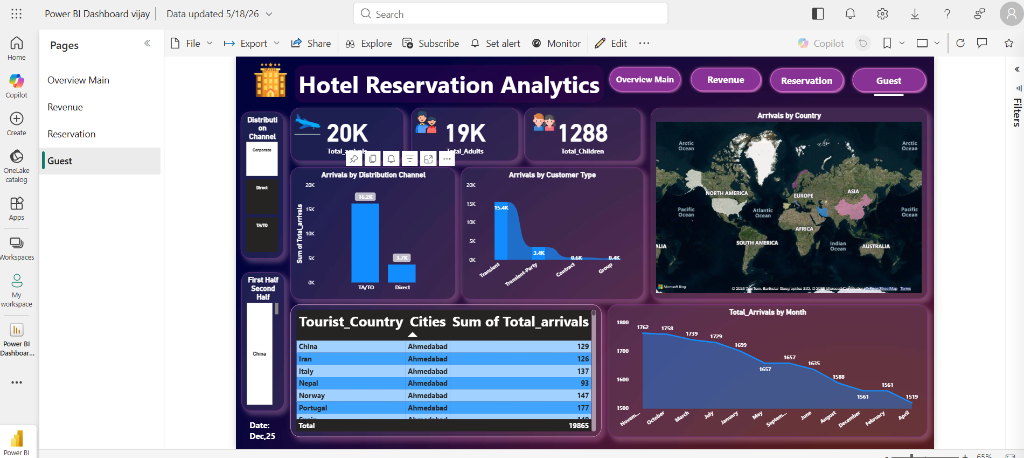

The dashboard page shown, as its layout file describes it:
{"tool":"powerbi","page":{"name":"Guest","canvas":[1600,900],"ordinal":3},"visuals":[{"type":"card","fields":{"Values":["Sum(Power BI project.Children)"]},"box":[660.1,117.2,268,122.6],"z":0},{"type":"card","fields":{"Values":["Sum(Power BI project.Adults)"]},"box":[401,117.2,247.1,122.6],"z":1000},{"type":"card","fields":{"Values":["Sum(Power BI project.Total_arrivals)"]},"box":[124.4,117.2,259.7,122.6],"z":2000},{"type":"lineClusteredColumnComboChart","title":"Arrivals by Distribution Channel","fields":{"Category":["Power BI project.Distribution_channel"],"Y":["Sum(Power BI project.Total_arrivals)"]},"box":[124.4,252.5,378.7,303],"z":3000},{"type":"ribbonChart","title":"Arrivals by Customer Type","fields":{"Category":["Power BI project.customer_type"],"Y":["Sum(Power BI project.Total_arrivals)"]},"box":[515.8,252.5,418.4,303],"z":4000},{"type":"tableEx","title":"Overall Revenue Trend By Market Segment","fields":{"Values":["Power BI project.Tourist_Country","Power BI project.Cities","Sum(Power BI project.Total_arrivals)"]},"box":[125.7,568.6,712.9,304.3],"z":5000},{"type":"textbox","box":[25.7,827.1,98.6,72.9],"z":6000},{"type":"filledMap","title":"Arrivals by Country","fields":{"Category":["Power BI project.Tourist_Country"]},"box":[950,118,634,438],"z":7000},{"type":"areaChart","title":"Total_Arrivals by Month","fields":{"Category":["Power BI project.arrival_date_month"],"Y":["Sum(Power BI project.Total_arrivals)"]},"box":[851.4,568.6,732.9,304.3],"z":8000},{"type":"shape","box":[1037.1,20,171.4,64.3],"z":9000},{"type":"shape","box":[851,19,174.3,67.1],"z":10000},{"type":"shape","box":[1218.6,21.4,178.6,64.3],"z":11000},{"type":"shape","box":[1407.1,21.4,178.6,64.3],"z":12000},{"type":"shape","box":[1462.9,71,67.1,34.3],"z":13000},{"type":"shape","box":[125.7,8.6,727.1,105.7],"z":14000},{"type":"image","box":[35.7,8.6,88.6,88.6],"z":15000},{"type":"advancedSlicerVisual","title":"Distribution Channel","fields":{"Values":["Power BI project.Distribution_channel"]},"box":[11.4,127.1,98.6,335.7],"z":16000},{"type":"advancedSlicerVisual","title":"First Half Second Half","fields":{"Values":["Power BI project.Tourist_Country"]},"box":[12.9,494.3,98.6,318.6],"z":17000},{"type":"image","box":[125.8,118.4,74.9,74.9],"z":18000},{"type":"image","box":[401.5,118.4,68.9,62.9],"z":19000},{"type":"image","box":[672.7,118.4,68.9,62.9],"z":20000}]}

Visuals, with their boxes on the page's 1600x900 design canvas (x1, y1, x2, y2). These are canvas units, not pixel positions in the 1024x458 screenshot, which may show the page scaled, cropped or inside an application window:
card - Sum(Power BI project.Children): <bbox>660, 117, 928, 240</bbox>
card - Sum(Power BI project.Adults): <bbox>401, 117, 648, 240</bbox>
card - Sum(Power BI project.Total_arrivals): <bbox>124, 117, 384, 240</bbox>
"Arrivals by Distribution Channel" lineClusteredColumnComboChart: <bbox>124, 252, 503, 556</bbox>
"Arrivals by Customer Type" ribbonChart: <bbox>516, 252, 934, 556</bbox>
"Overall Revenue Trend By Market Segment" tableEx: <bbox>126, 569, 839, 873</bbox>
textbox: <bbox>26, 827, 124, 900</bbox>
"Arrivals by Country" filledMap: <bbox>950, 118, 1584, 556</bbox>
"Total_Arrivals by Month" areaChart: <bbox>851, 569, 1584, 873</bbox>
shape: <bbox>1037, 20, 1208, 84</bbox>
shape: <bbox>851, 19, 1025, 86</bbox>
shape: <bbox>1219, 21, 1397, 86</bbox>
shape: <bbox>1407, 21, 1586, 86</bbox>
shape: <bbox>1463, 71, 1530, 105</bbox>
shape: <bbox>126, 9, 853, 114</bbox>
image: <bbox>36, 9, 124, 97</bbox>
"Distribution Channel" advancedSlicerVisual: <bbox>11, 127, 110, 463</bbox>
"First Half Second Half" advancedSlicerVisual: <bbox>13, 494, 112, 813</bbox>
image: <bbox>126, 118, 201, 193</bbox>
image: <bbox>402, 118, 470, 181</bbox>
image: <bbox>673, 118, 742, 181</bbox>
